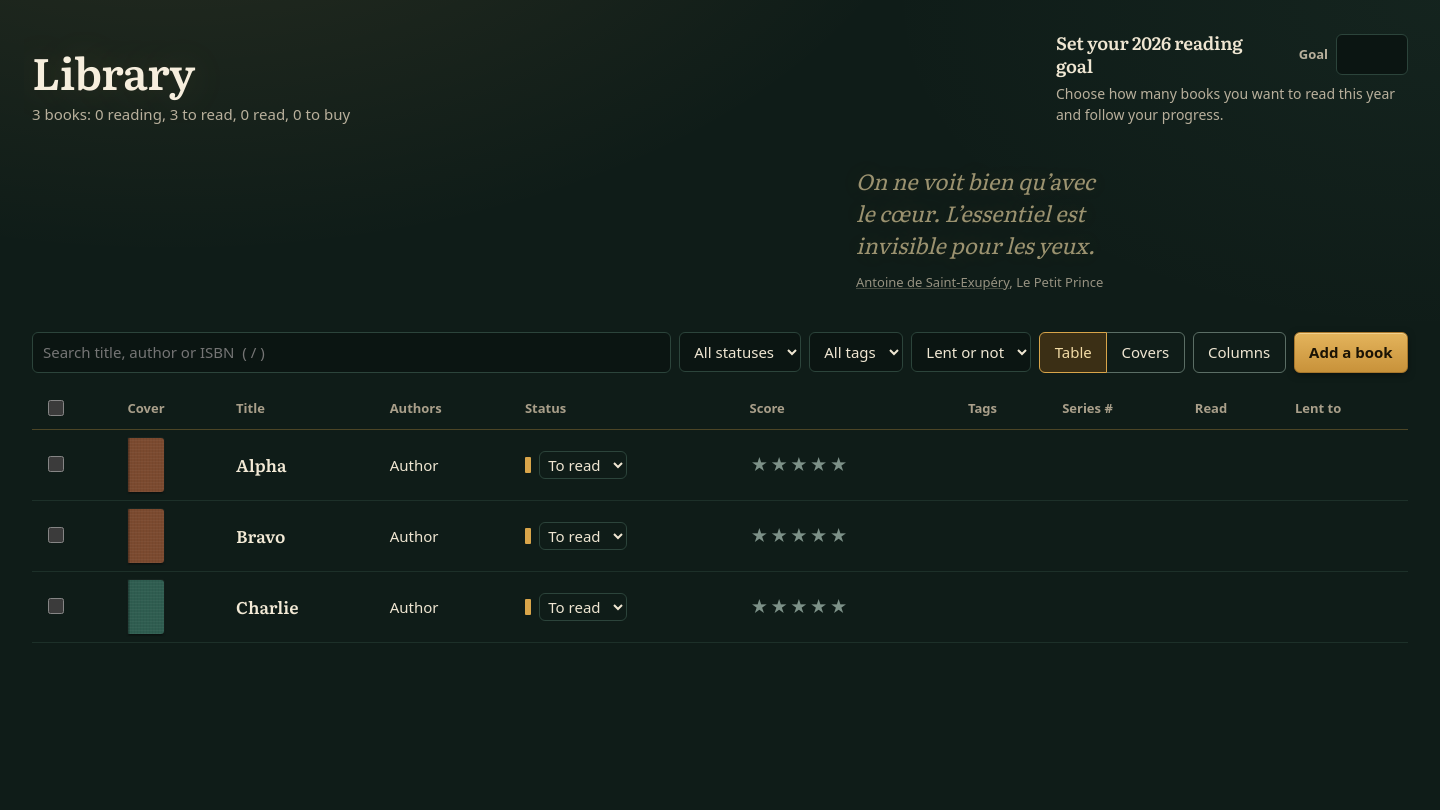
Test: LibraryPage › bulkSetStatusEditsEachSelectedBook
Later steps or results of the test are not shown.
Click the checkbox named "Select Alpha": [56, 464] box [48,456,64,472]
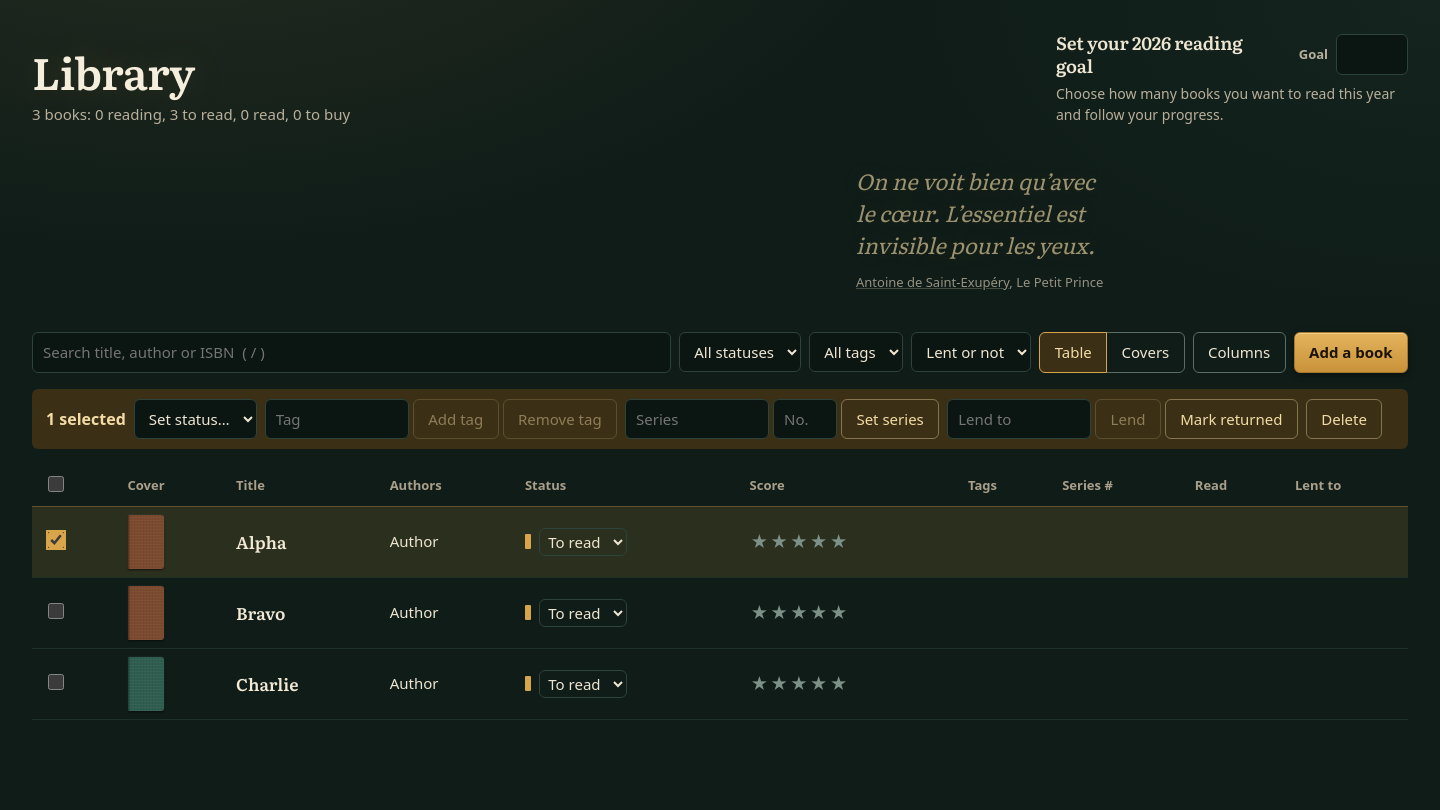
Click the checkbox named "Select Bravo": [56, 611] box [48,603,64,619]
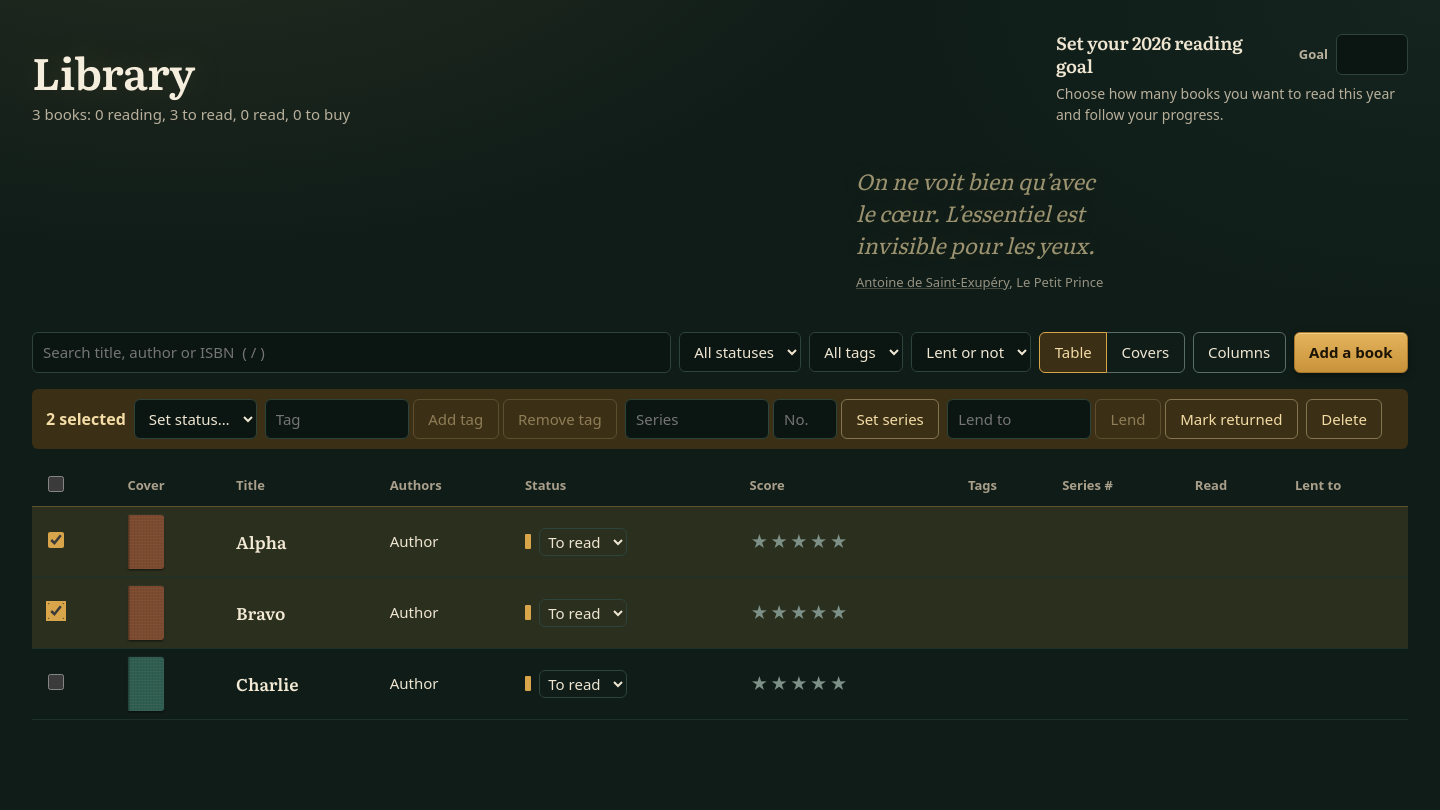
Expected: the text "2 selected" is shown, [46,407,126,431]
